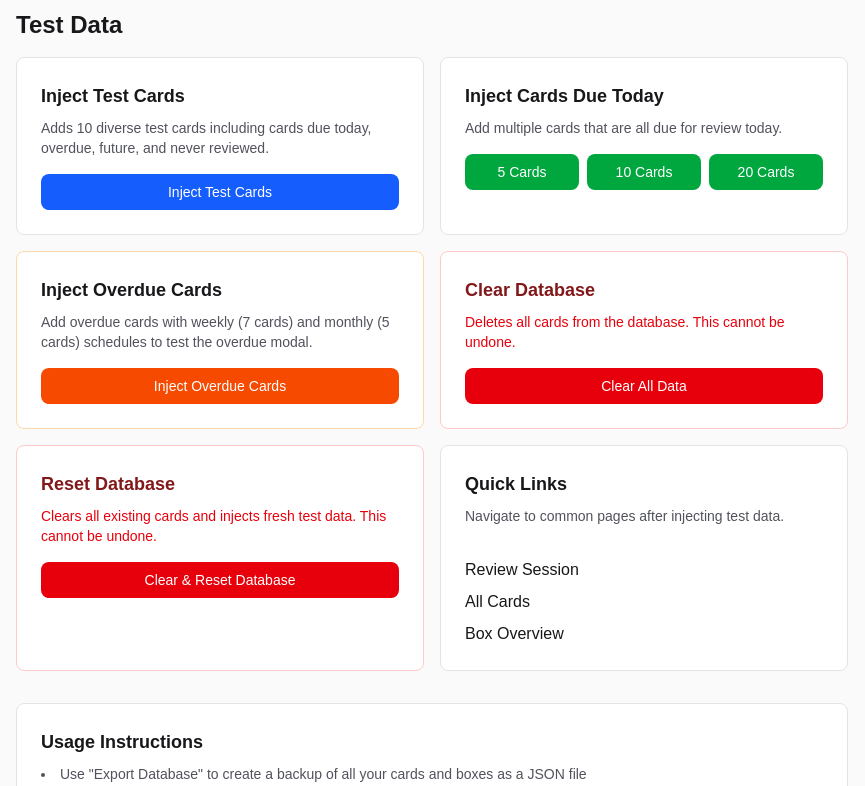
Test: Dev Tools Page › Clear Database › should clear database when button is clicked
(page scrolled)
Click the button "Clear All Data": (644, 386) [465, 368, 823, 404]
(page scrolled)
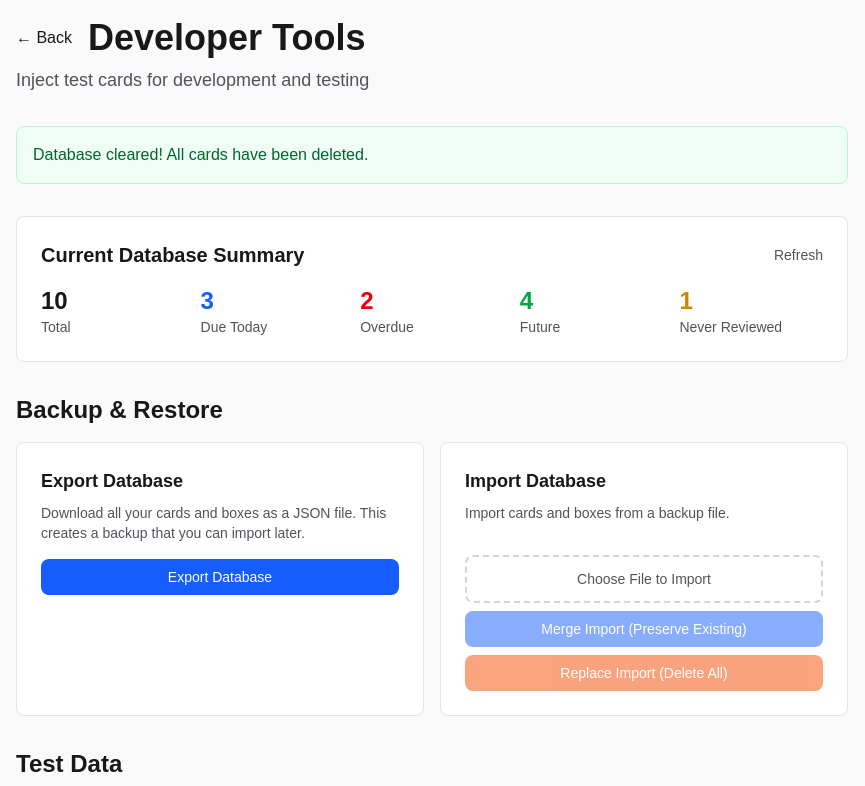
Check: the text "Database cleared! All cards have been deleted." is shown, box [16, 126, 848, 184]
